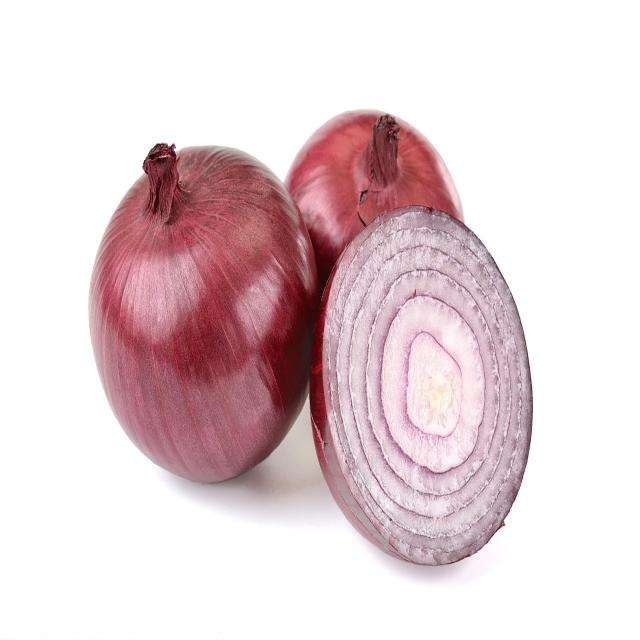onion: (90, 138, 316, 498), (313, 208, 531, 575), (281, 107, 467, 390)
